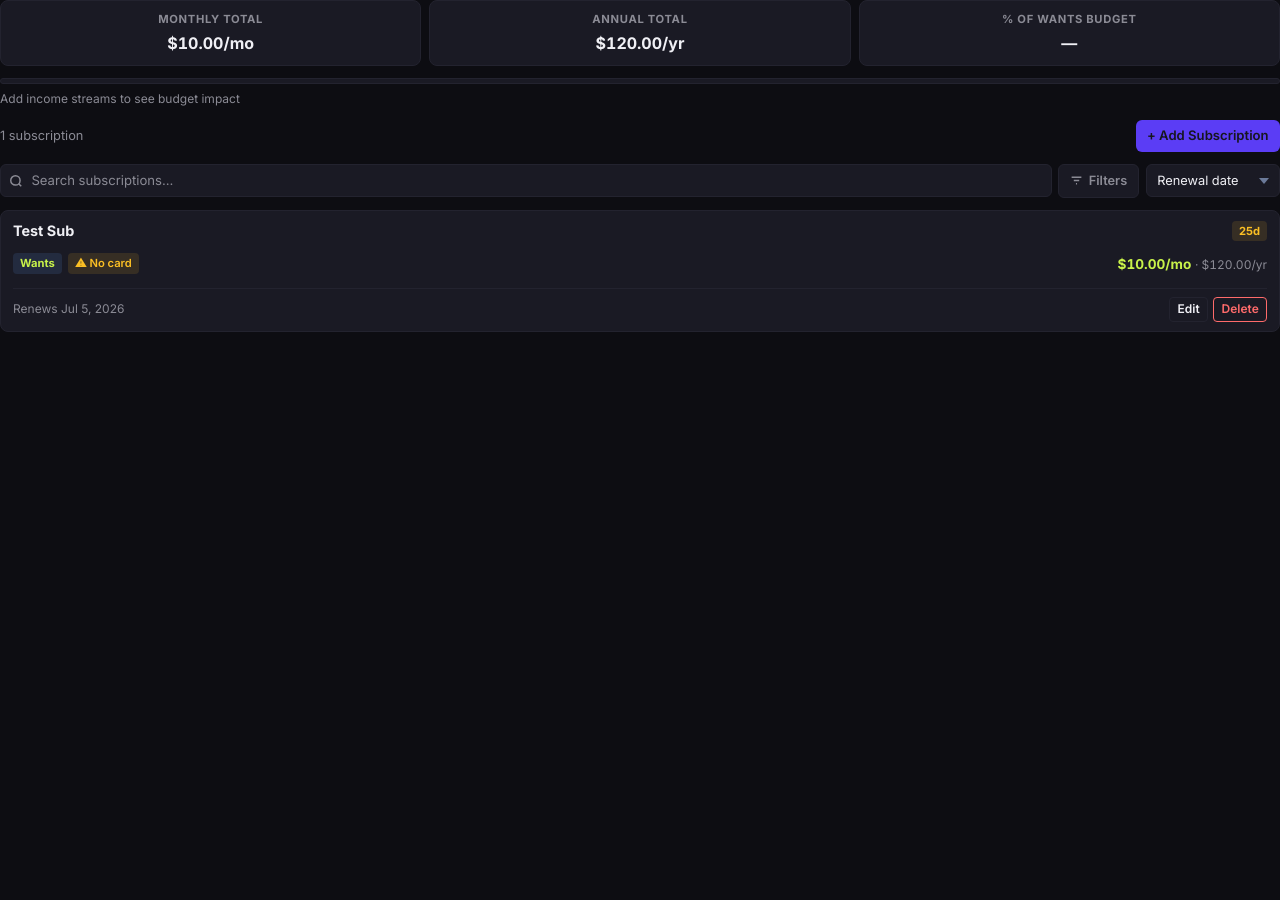
Test: Subscriptions — BUG-032 next renewal display › BUG-032: edit modal pre-fills the next renewal date, not the stale anchor
Click the button "Edit" at (1189, 309), box [1169,297,1208,322]
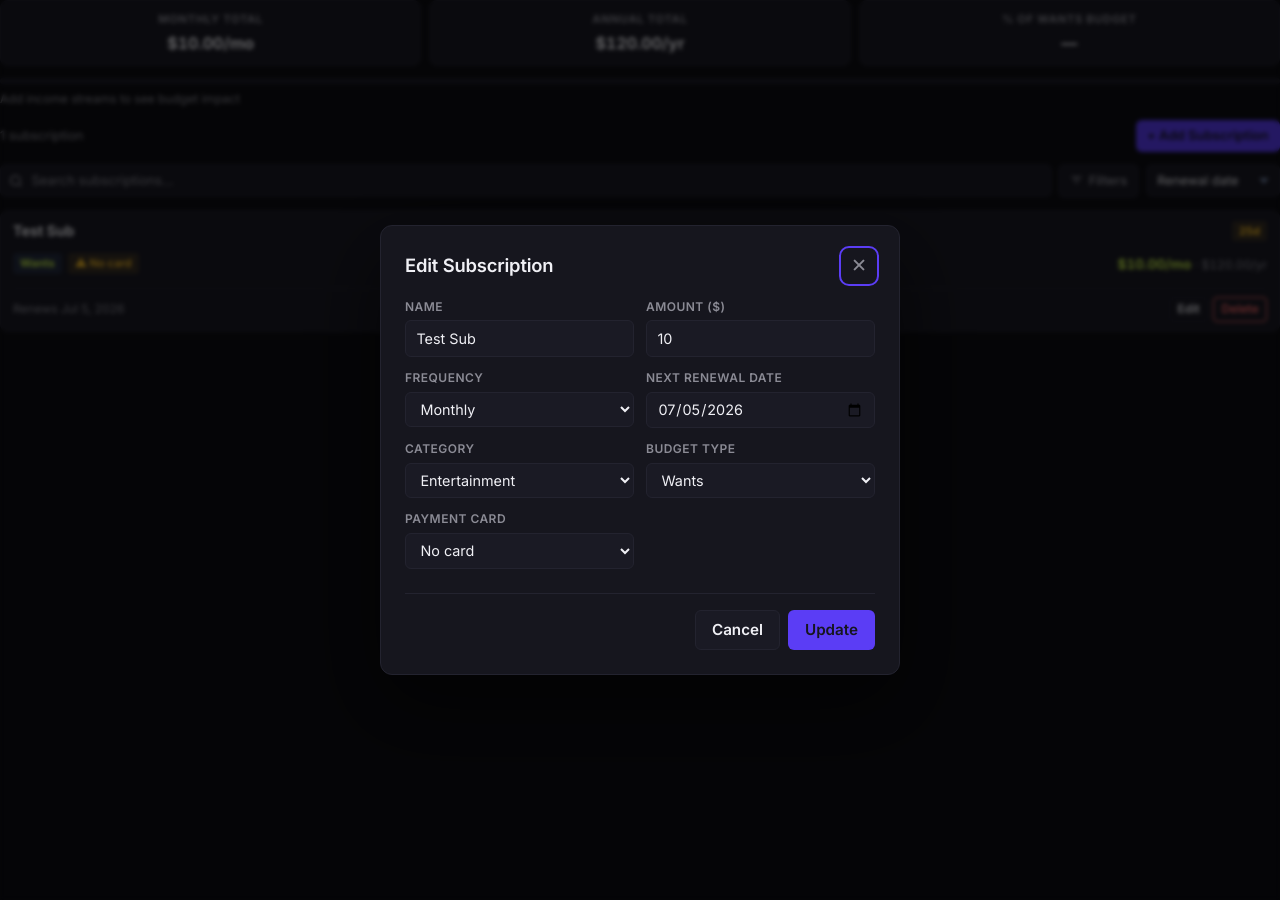
Check: the date field with id "sub-date" holds "2026-07-05", box [646,392,875,428]
